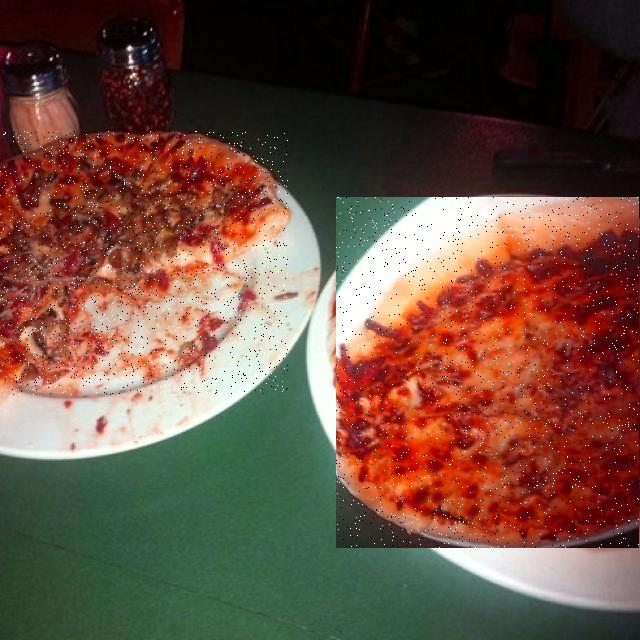Pizza: (336, 197, 640, 548), (0, 131, 288, 395)
